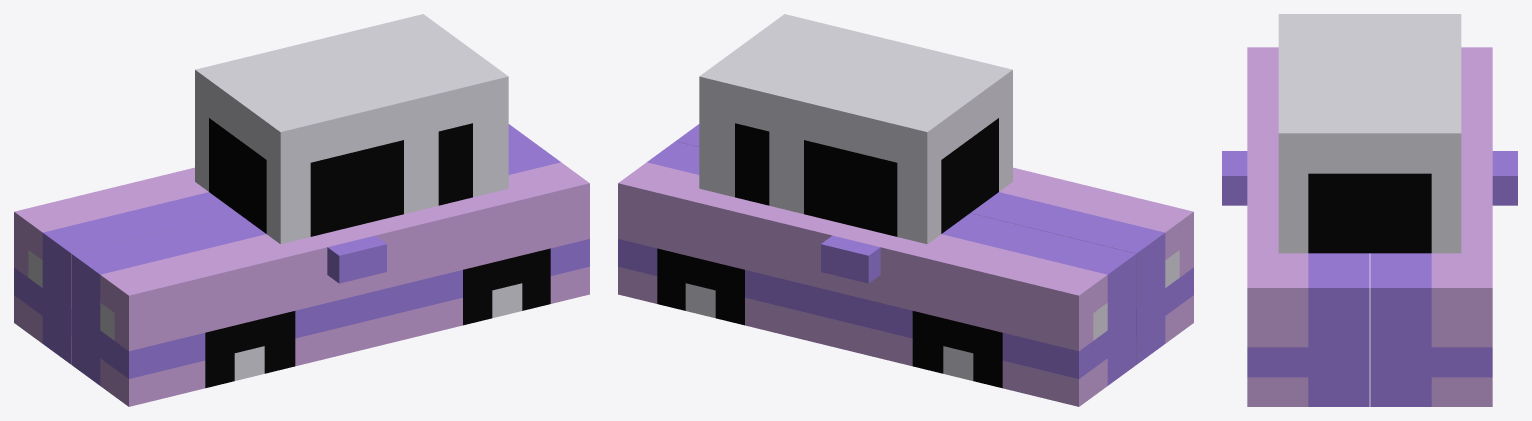
File: voiture_2_violet_.glb
The picture shows the model from 3 angles, left to right: view 1: azimuth 30°, elevation 25°; view 2: azimuth 150°, elevation 25°; view 3: azimuth 270°, elevation 25°; orthographic projection. The views are drawn at different scales.
Visible parts, largest first — view 1: Car_2_Violet; view 2: Car_2_Violet; view 3: Car_2_Violet.
Boxes of the visible parts, <box> form: Car_2_Violet: <box>14,14,589,406</box>; Car_2_Violet: <box>618,14,1193,406</box>; Car_2_Violet: <box>1222,14,1517,406</box>.
Size of the model in its own units: 16.43 by 7.61 by 8.53.
